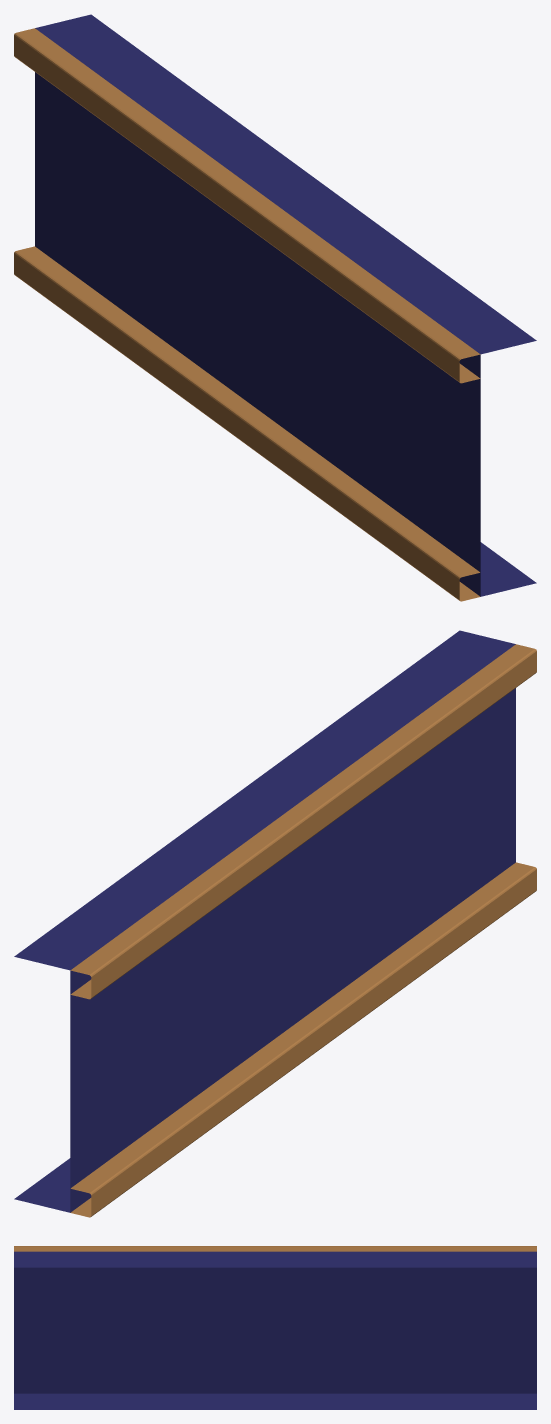
File: Hookable_Surface_short.fbx
The picture shows the model from 3 angles, top to bottom: view 1: azimuth 30°, elevation 25°; view 2: azimuth 150°, elevation 25°; view 3: azimuth 270°, elevation 25°; orthographic projection. The views are drawn at different scales.
Visible parts, largest first — view 1: Hookable_Surface_short; view 2: Hookable_Surface_short; view 3: Hookable_Surface_short.
Part boxes in pixels (x1,y1,x2,y2): Hookable_Surface_short: (14, 14, 536, 601); Hookable_Surface_short: (14, 630, 536, 1217); Hookable_Surface_short: (14, 1246, 536, 1409).
Size of the model in its own units: 10 by 30 by 100.
